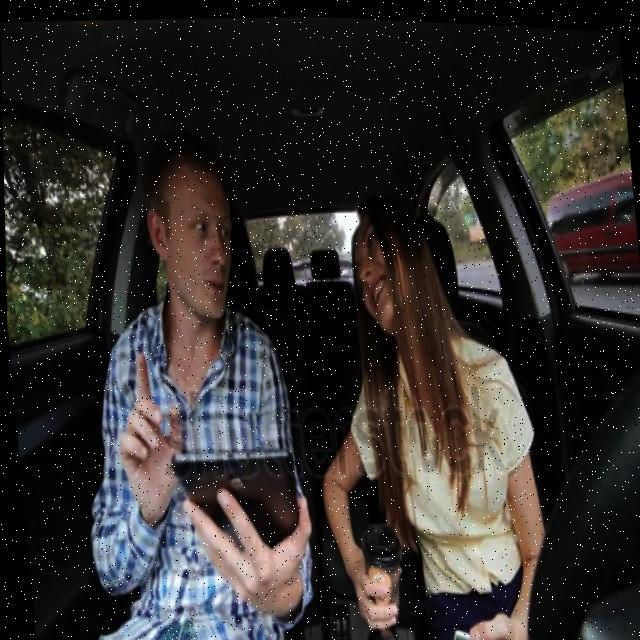Drinking: (357, 518, 406, 616)
